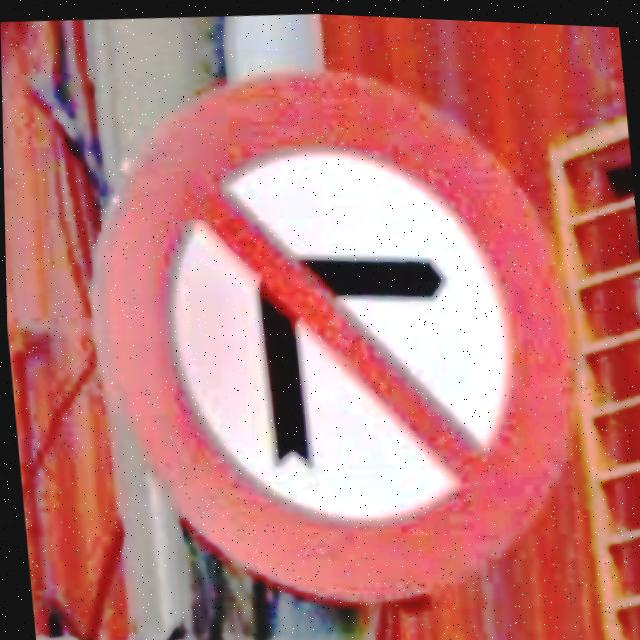noturnright: (91, 69, 577, 603)
